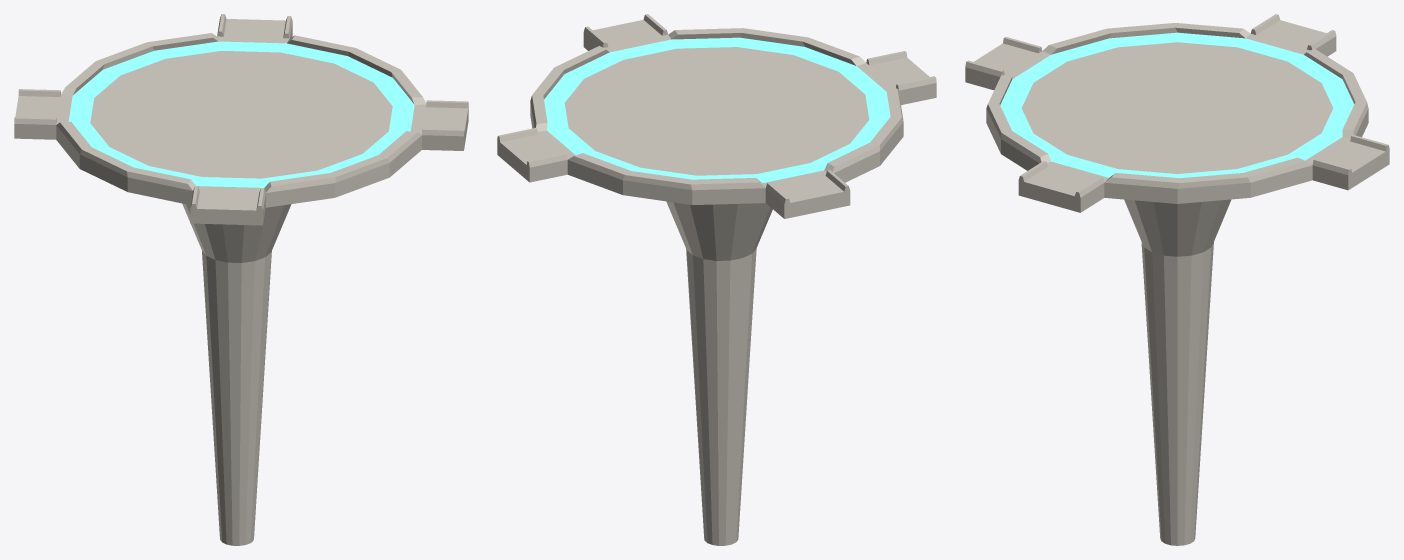
The model's file is base_pillar_2.fbx.
The picture shows the model from 3 angles, left to right: view 1: azimuth 30°, elevation 25°; view 2: azimuth 150°, elevation 25°; view 3: azimuth 270°, elevation 25°; orthographic projection. The views are drawn at different scales.
Parts seen in each view (by area): view 1: Cylinder.005; view 2: Cylinder.005; view 3: Cylinder.005.
Boxes of the visible parts, box(x1,y1,x2,y2) form: Cylinder.005: box(14, 14, 468, 545); Cylinder.005: box(497, 14, 936, 545); Cylinder.005: box(965, 14, 1389, 545).
Bounding box in the file's own units: 4838 × 5505 × 4838.
